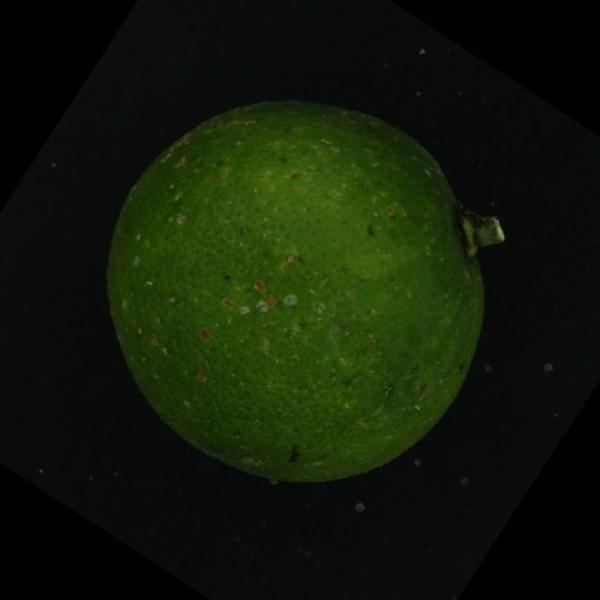Greening: (97, 92, 499, 495)
